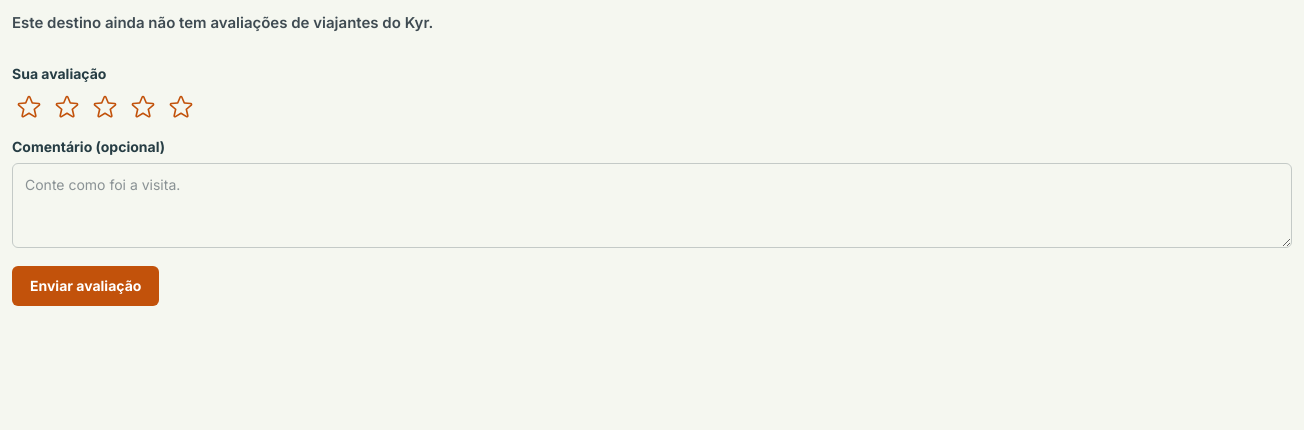
AvaliacoesDoDestino › pede uma nota antes de enviar e envia nota e comentário
Click the button "Enviar avaliação": (86, 286) [12,266,159,306]
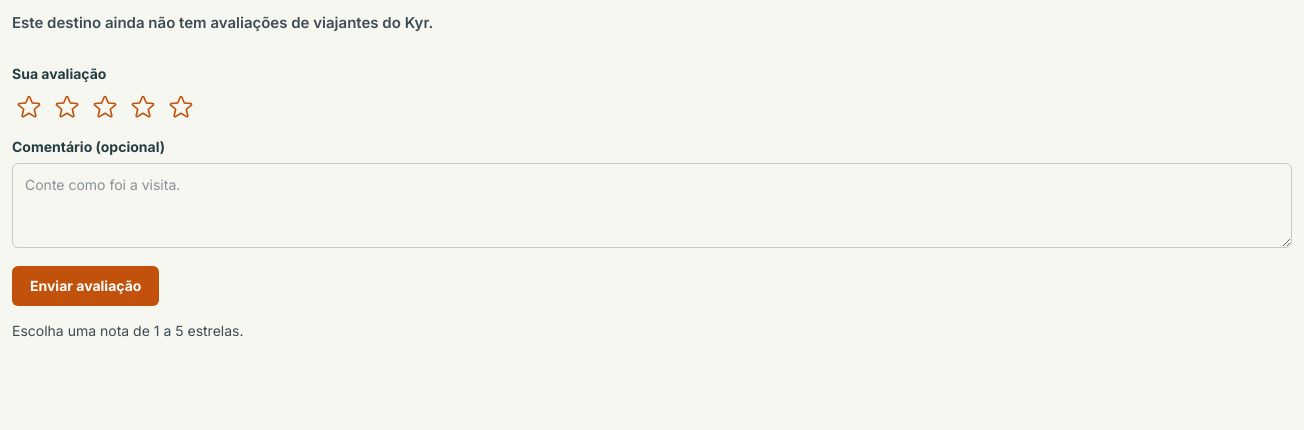
Expected: the text "Escolha uma nota de 1 a 5 estrelas." is shown, [12,322,244,338]
Click the radio button named "5 estrelas": (181, 106) [164,90,198,124]
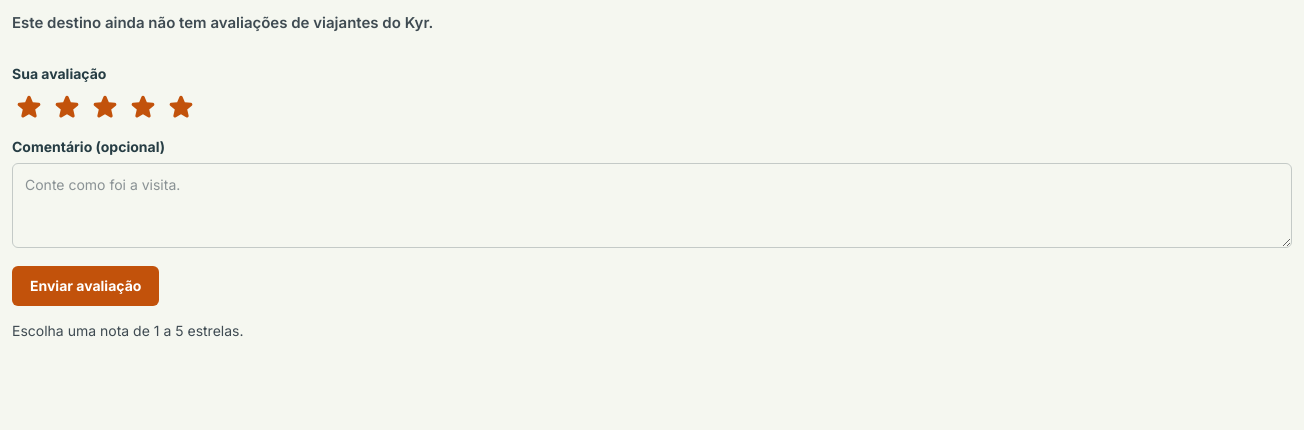
Expected: the radio button named "5 estrelas" is checked, [164,90,198,124]
In the text box labelled "Comentário (opcional)": (652, 205) [12,162,1292,248], type "Incrível"
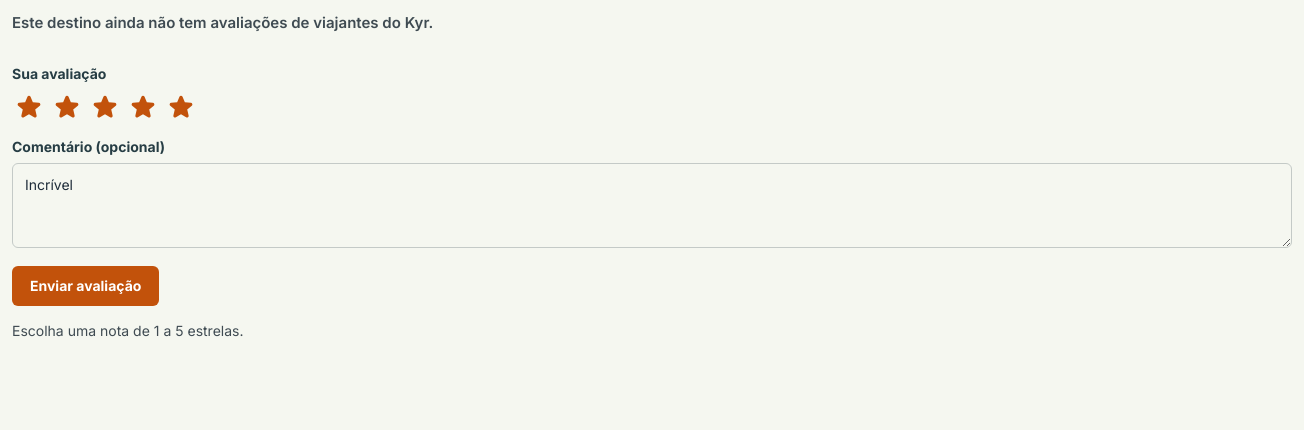
Click the button "Enviar avaliação": (86, 286) [12,266,159,306]
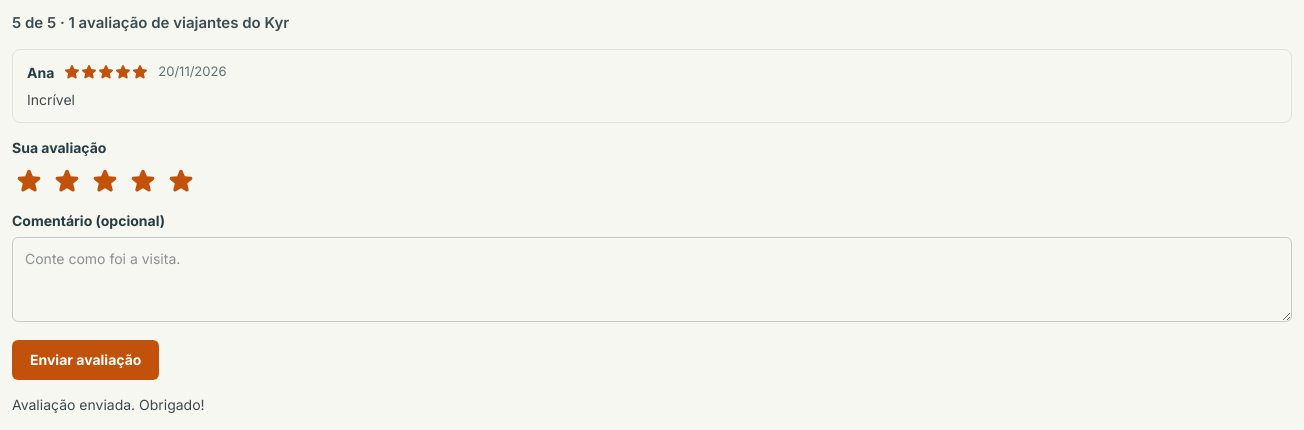
Expected: the text "Avaliação enviada. Obrigado!" is shown, [12,396,205,412]
Expected: the text "5 de 5 · 1 avaliação de viajantes do Kyr" is shown, [12,13,289,32]
Expected: the text box labelled "Comentário (opcional)" is empty, [12,236,1292,322]
